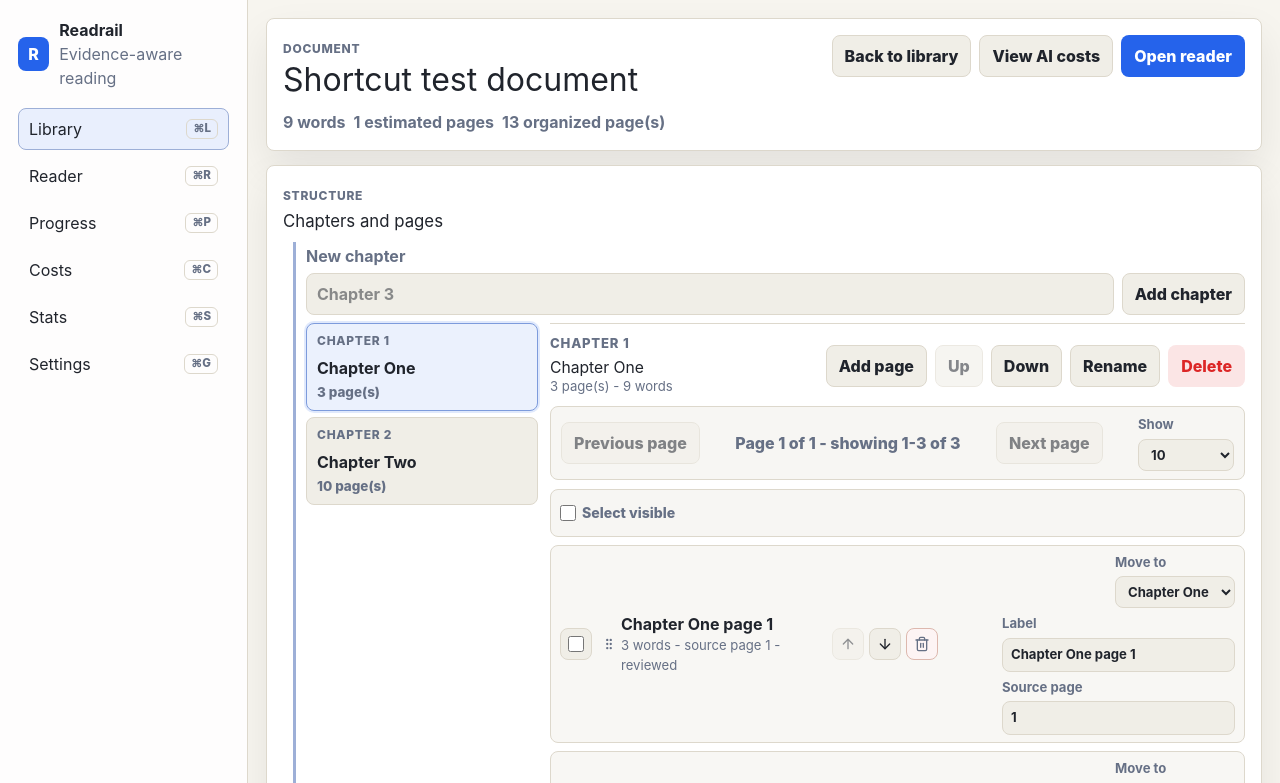
Test: app section shortcuts › confirms before deleting a structured page from the document organizer
The width and height of the screenshot is (1280, 783).
Expected: the text "Chapter One page 1" is shown, [621,614,773,634]
Click the button named "Delete Chapter One page 1". click: (922, 644)
box: [906,628,938,660]
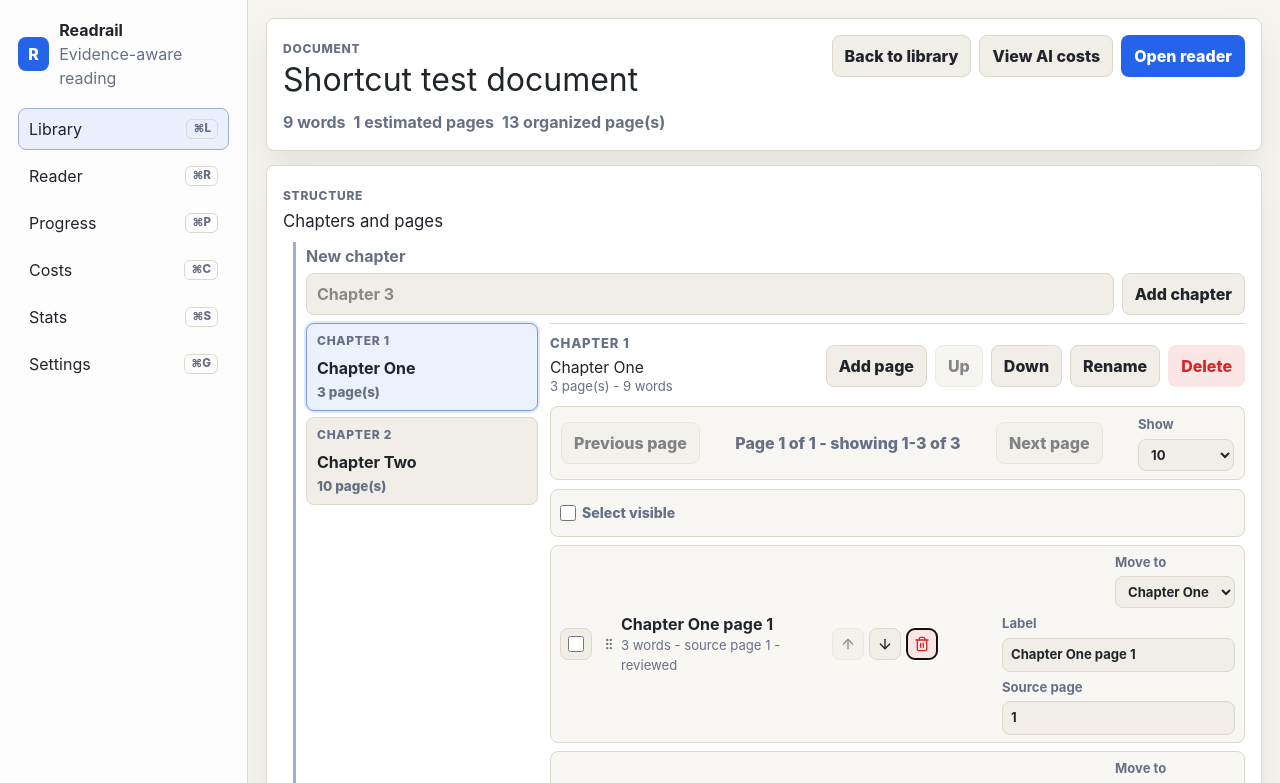
Expected: the text "Chapter One page 1" is shown, [621,614,773,634]
Click the button named "Delete Chapter One page 1". click: (922, 644)
box: [906,628,938,660]
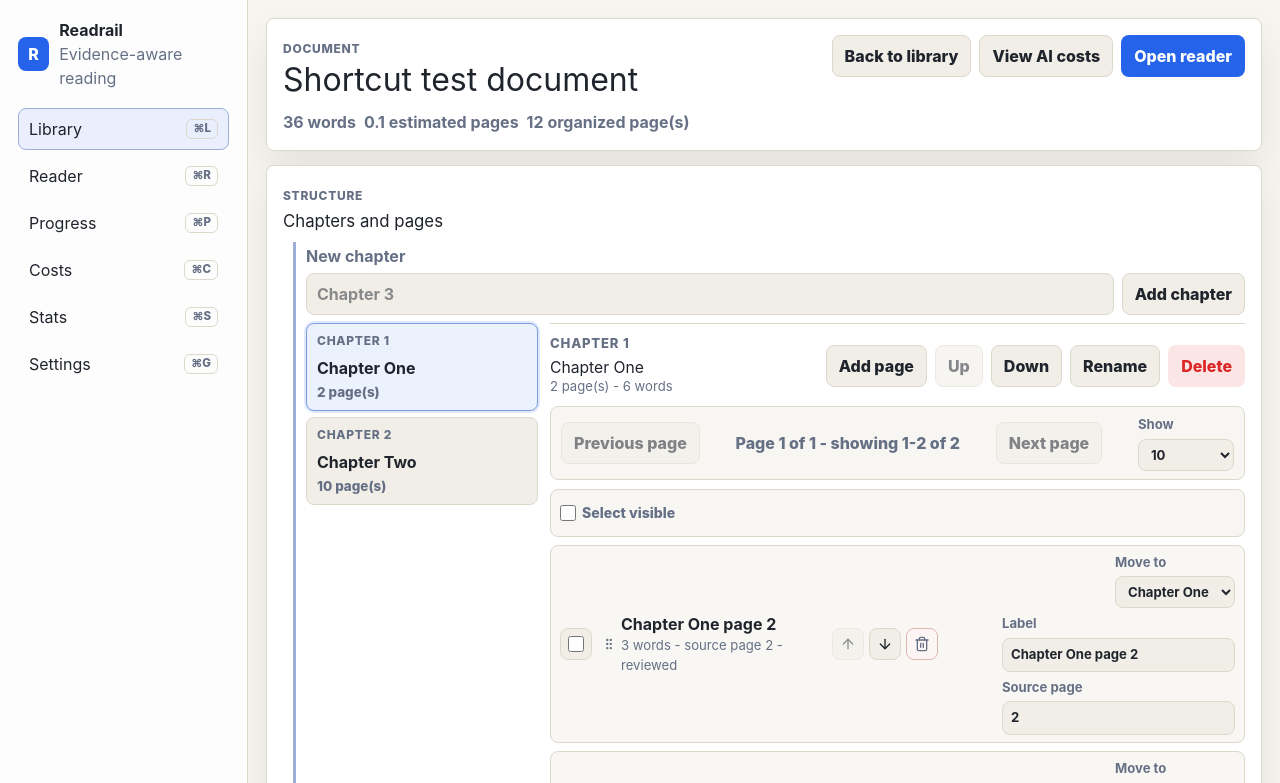
Expected: the text "Chapter One page 1" is gone
